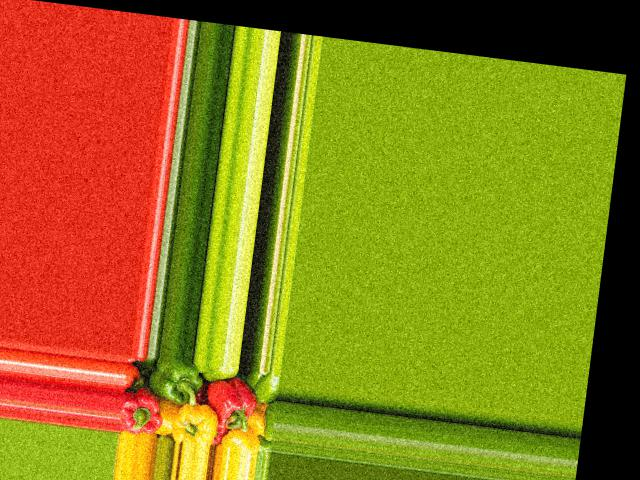bell_pepper: (119, 385, 171, 438)
